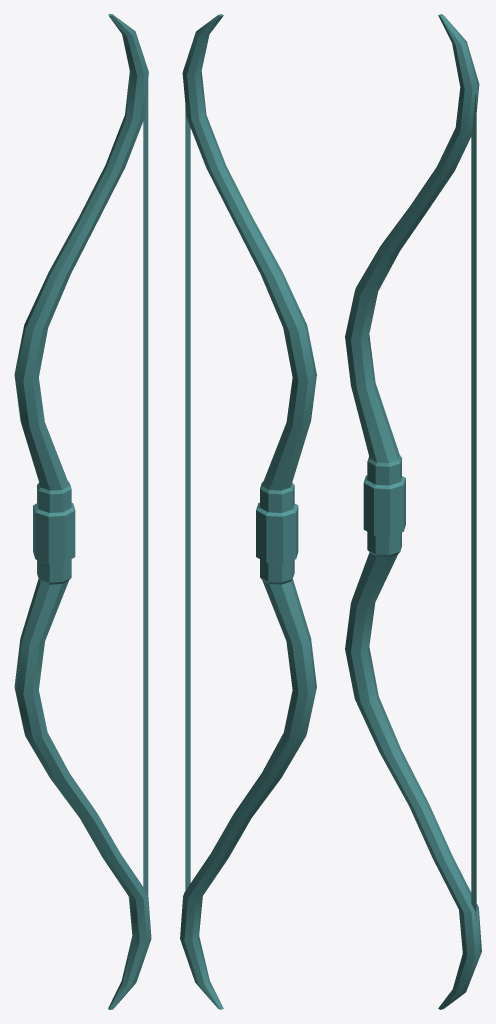
File: Bow_1.fbx
The picture shows the model from 3 angles, left to right: view 1: azimuth 30°, elevation 25°; view 2: azimuth 150°, elevation 25°; view 3: azimuth 330°, elevation 25°; orthographic projection.
Parts seen in each view (by area): view 1: L1; view 2: L1; view 3: L1.
Part boxes in pixels (x1=…): L1: x1=14, y1=14, x2=151, y2=1009; L1: x1=180, y1=14, x2=316, y2=1009; L1: x1=345, y1=14, x2=481, y2=1009.
Size of the model in its own units: 23.98 by 169 by 6.76.
